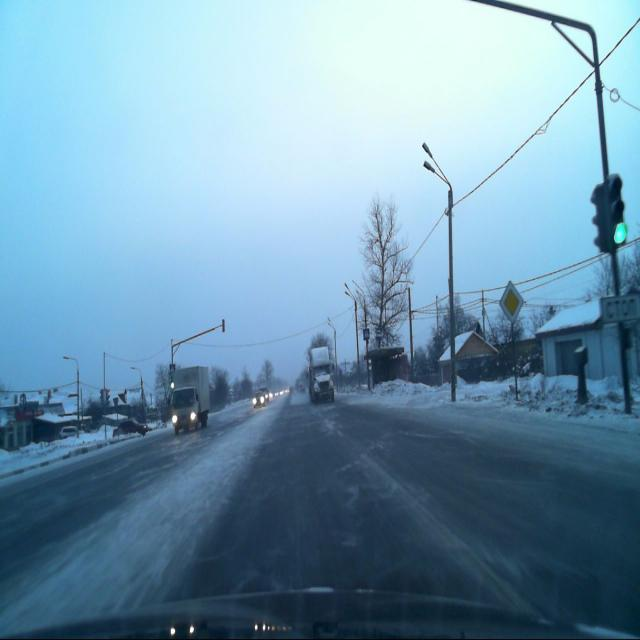object: (512, 328, 519, 397)
road sign: (600, 295, 640, 324), (499, 280, 523, 326)
